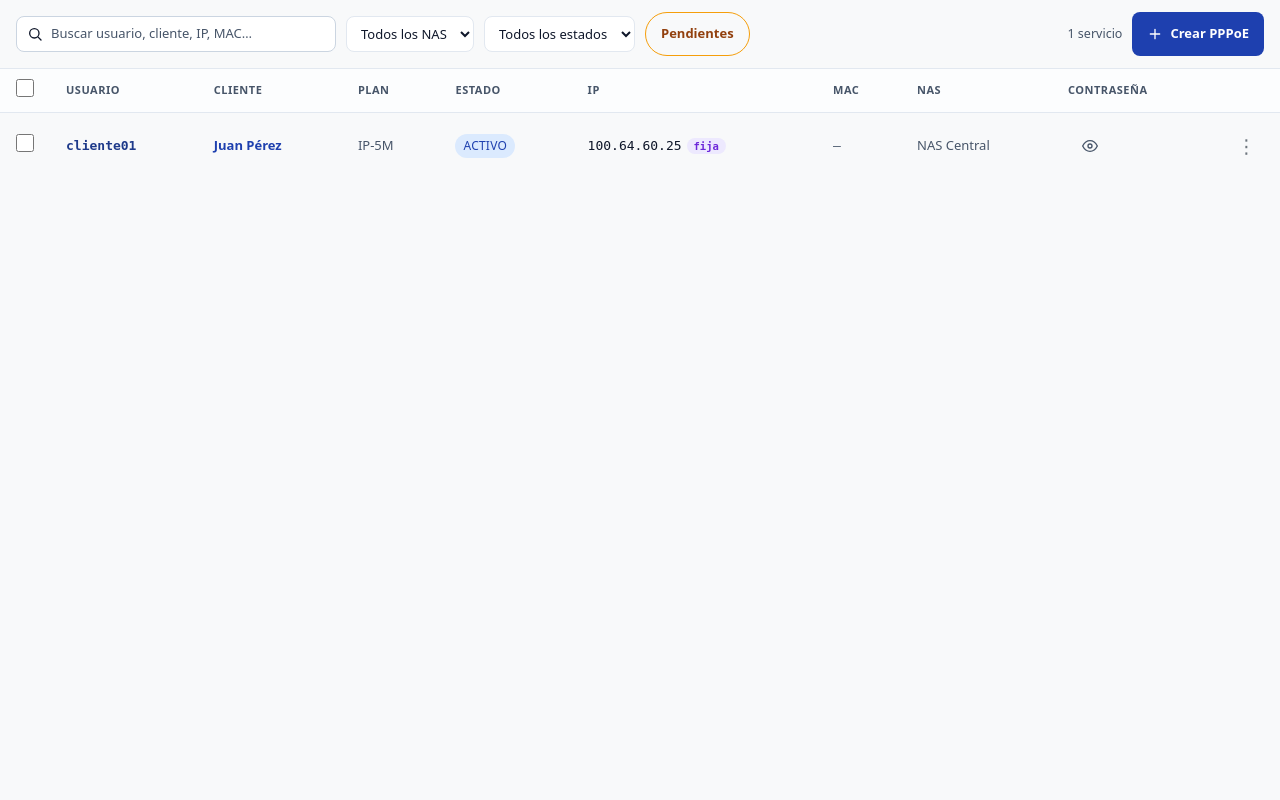
Test: MoveNasModal — S9.1 aviso honesto › muestra el aviso de IP nueva + desconexión al abrir el modal
Click the button named "Acciones".
click(1246, 146)  # box [1229,132,1264,159]
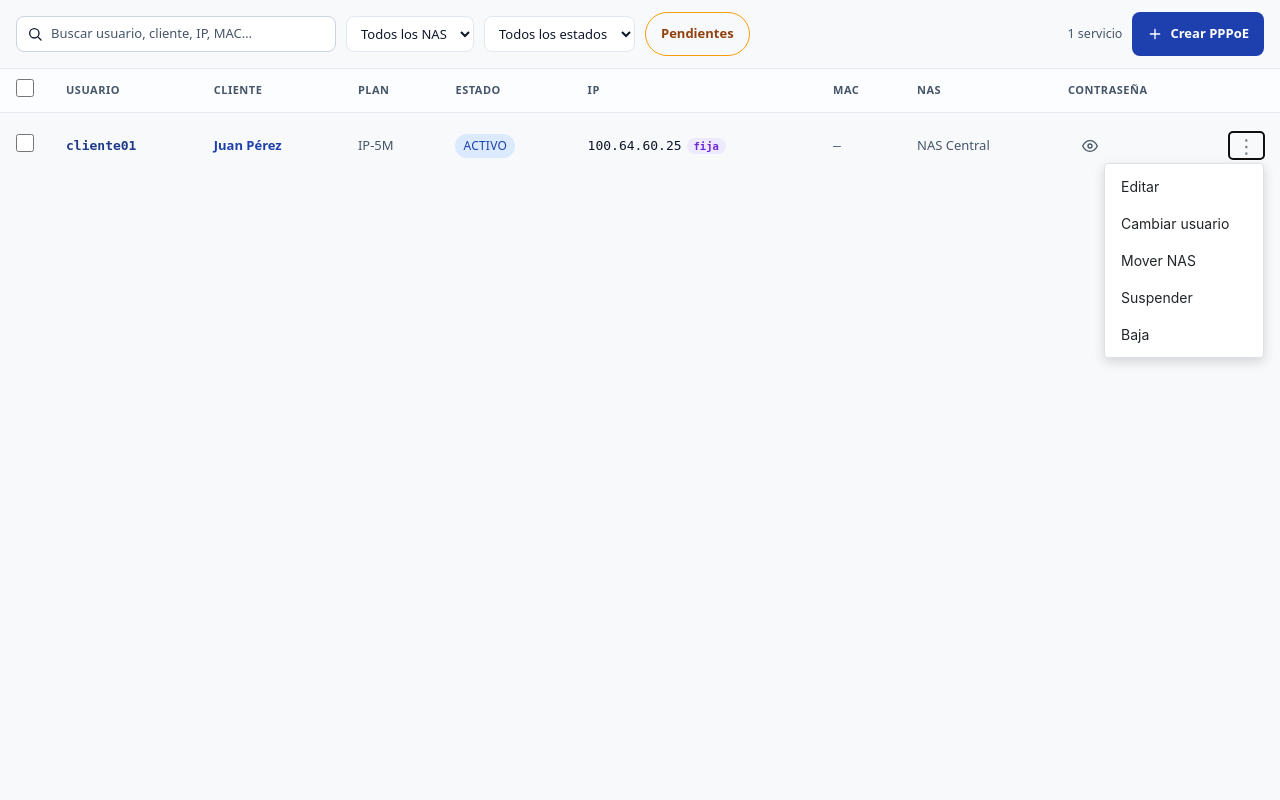
Click the menu item "Mover NAS".
click(1184, 261)  # box [1105,242,1263,279]
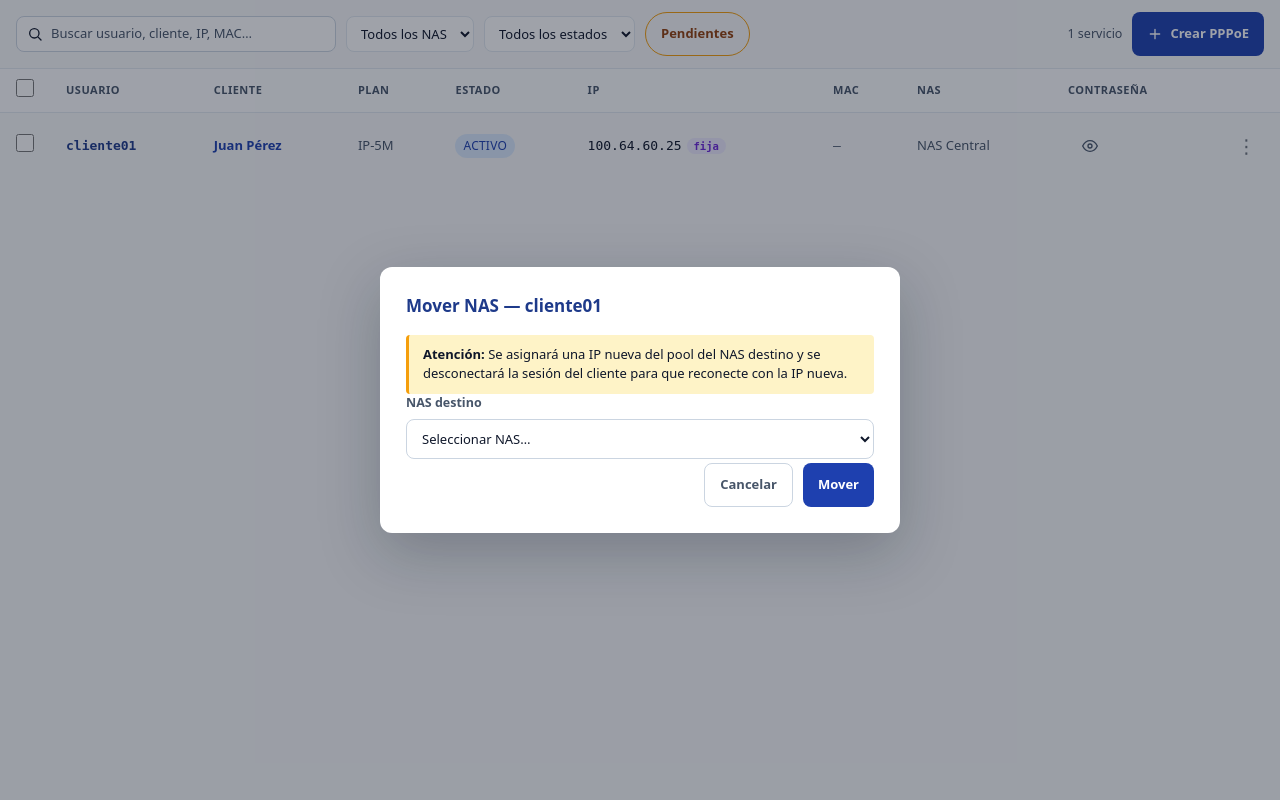
Check: the text "se desconectará la sesión" is shown, box [423,345,847,382]
